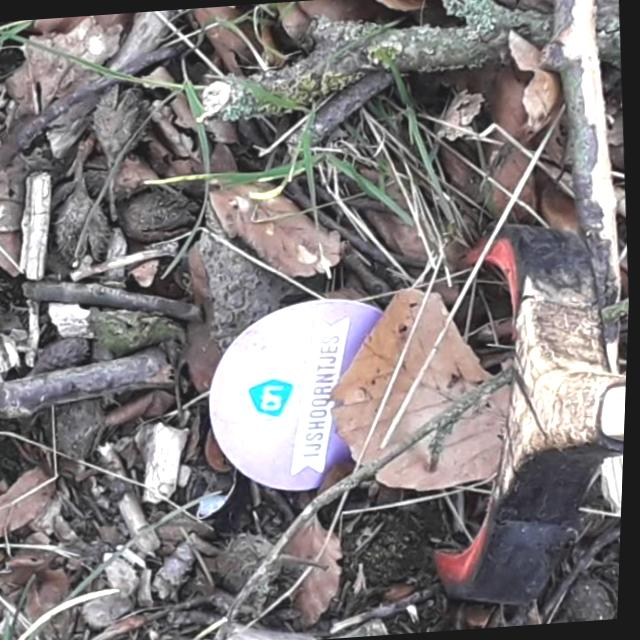Paper: (197, 293, 400, 501)
